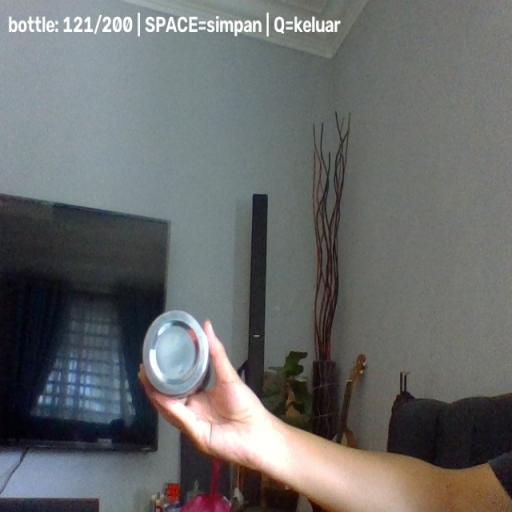Bottle: (142, 309, 212, 398)
